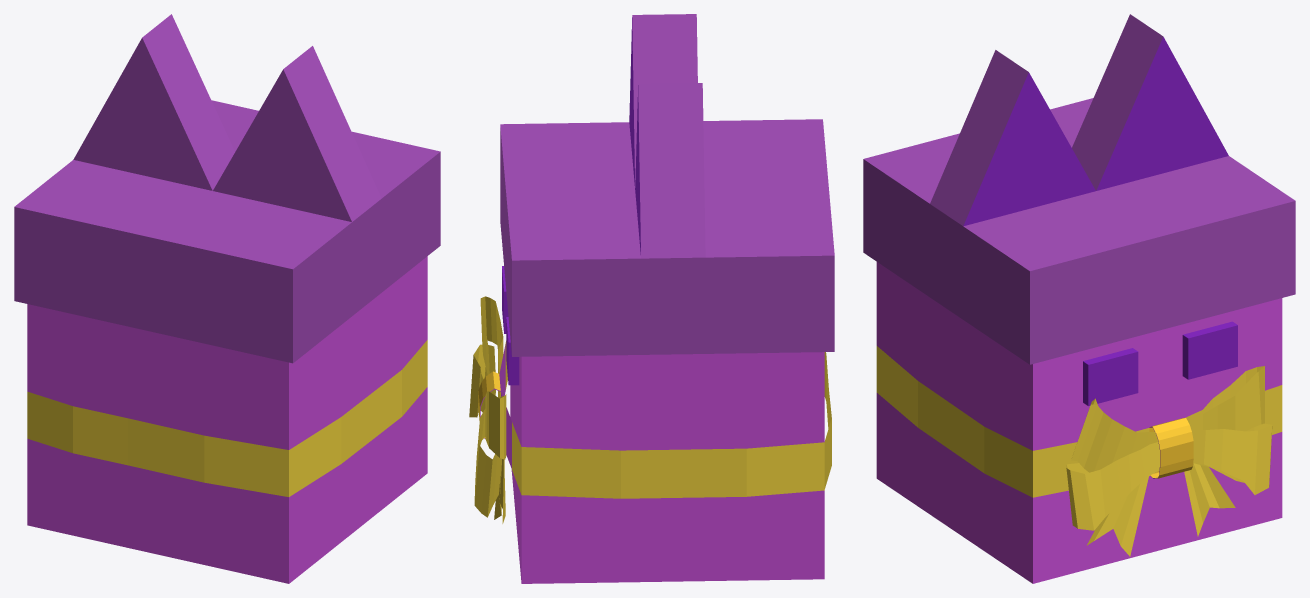
File: gift.fbx
The picture shows the model from 3 angles, left to right: view 1: azimuth 30°, elevation 25°; view 2: azimuth 150°, elevation 25°; view 3: azimuth 270°, elevation 25°; orthographic projection. The views are drawn at different scales.
Visible parts, largest first — view 1: Cube; view 2: Cube; view 3: Cube.
Boxes of the visible parts, box(x1,y1,x2,y2) form: Cube: box(14, 14, 440, 583); Cube: box(469, 14, 834, 583); Cube: box(863, 14, 1295, 583).
Bounding box in the file's own units: 296 × 341 × 294.
